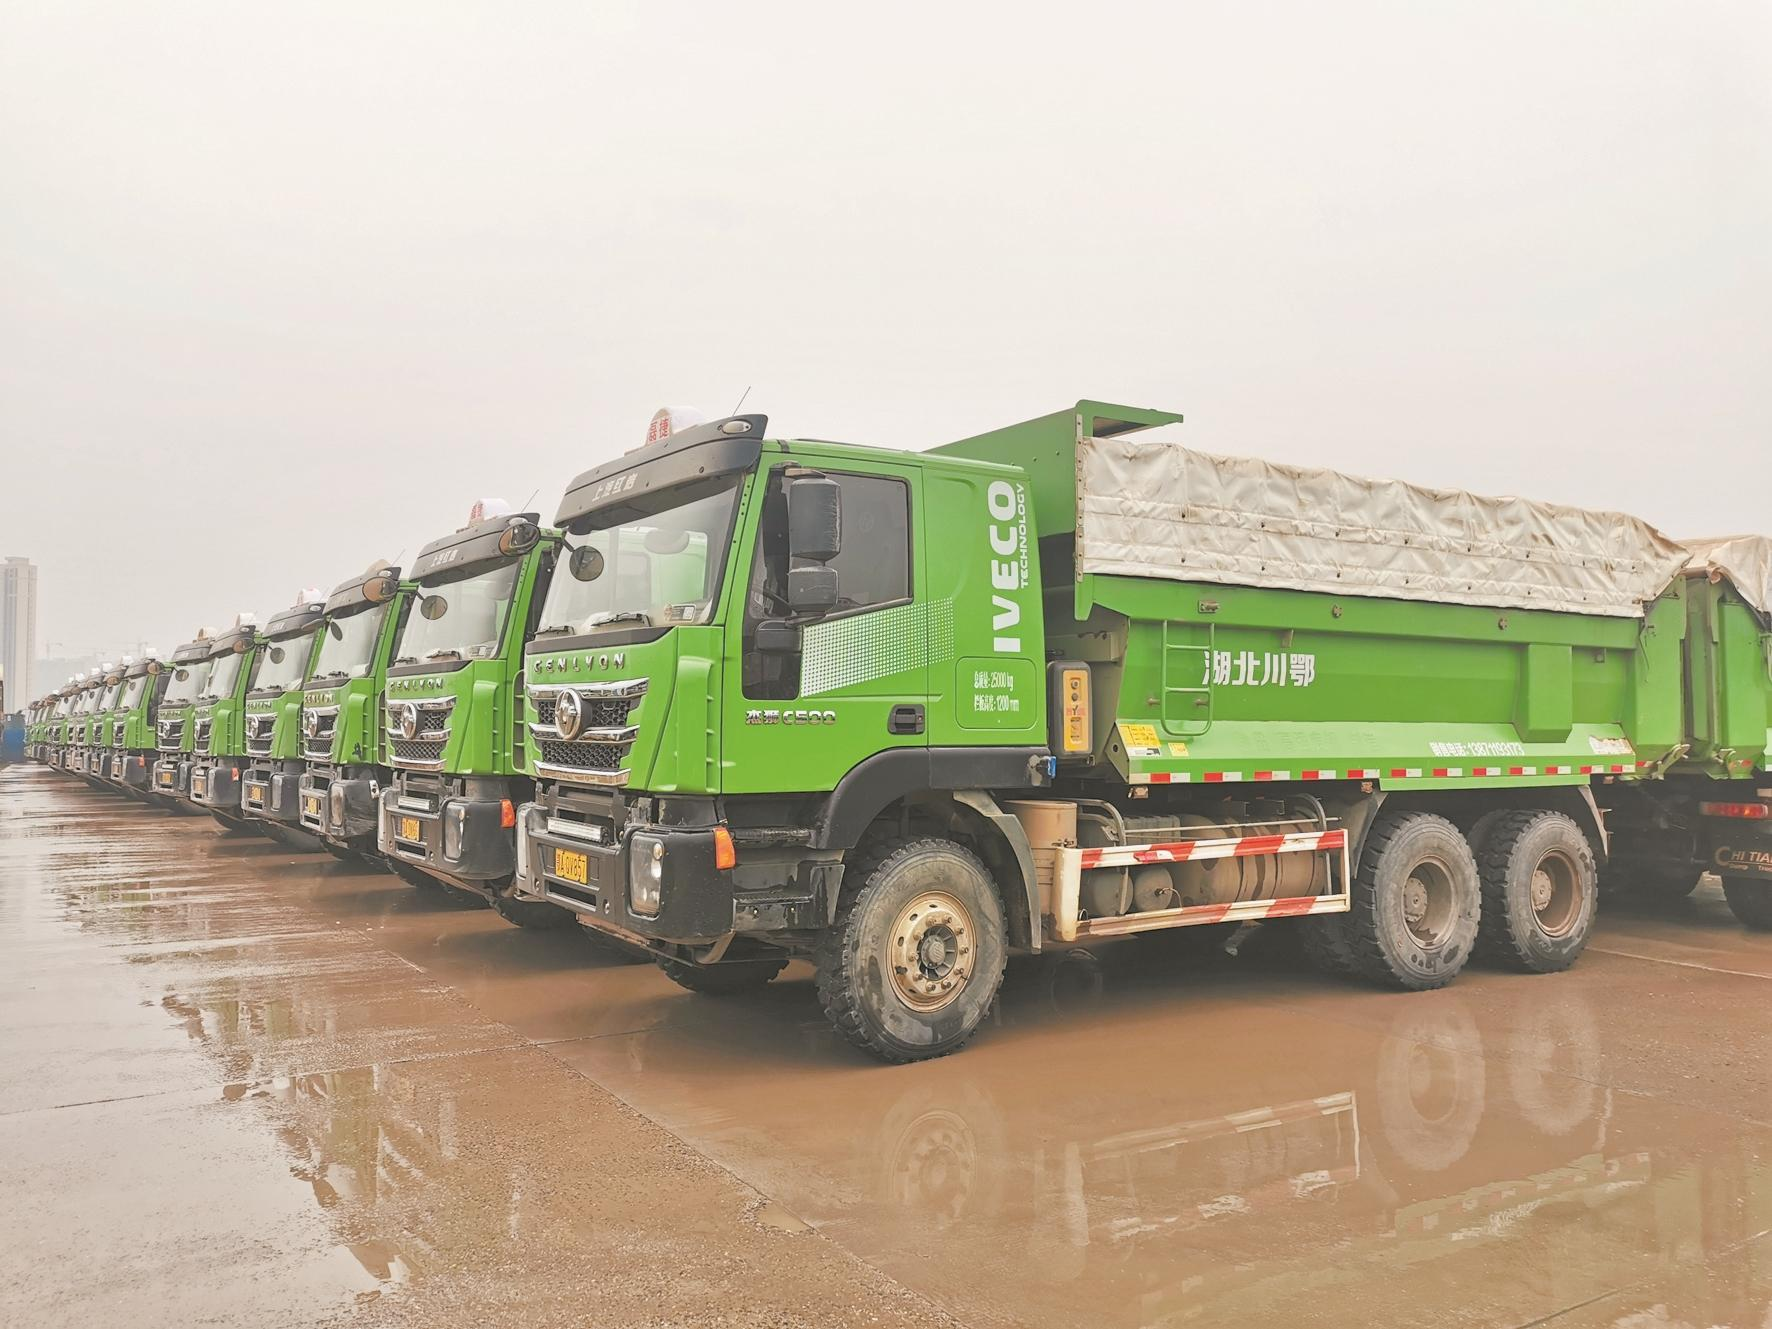truck: (506, 383, 1715, 1071)
